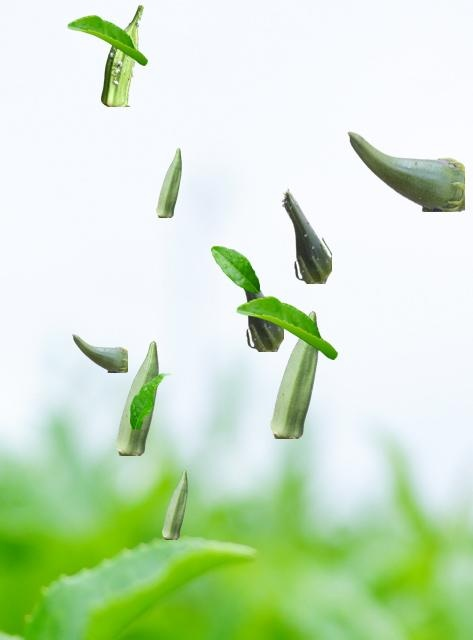okra: (347, 131, 463, 210), (270, 311, 317, 437), (115, 341, 157, 454), (281, 188, 330, 282), (101, 5, 142, 105), (243, 286, 282, 350), (72, 334, 126, 371), (156, 148, 180, 216), (162, 470, 186, 538)
